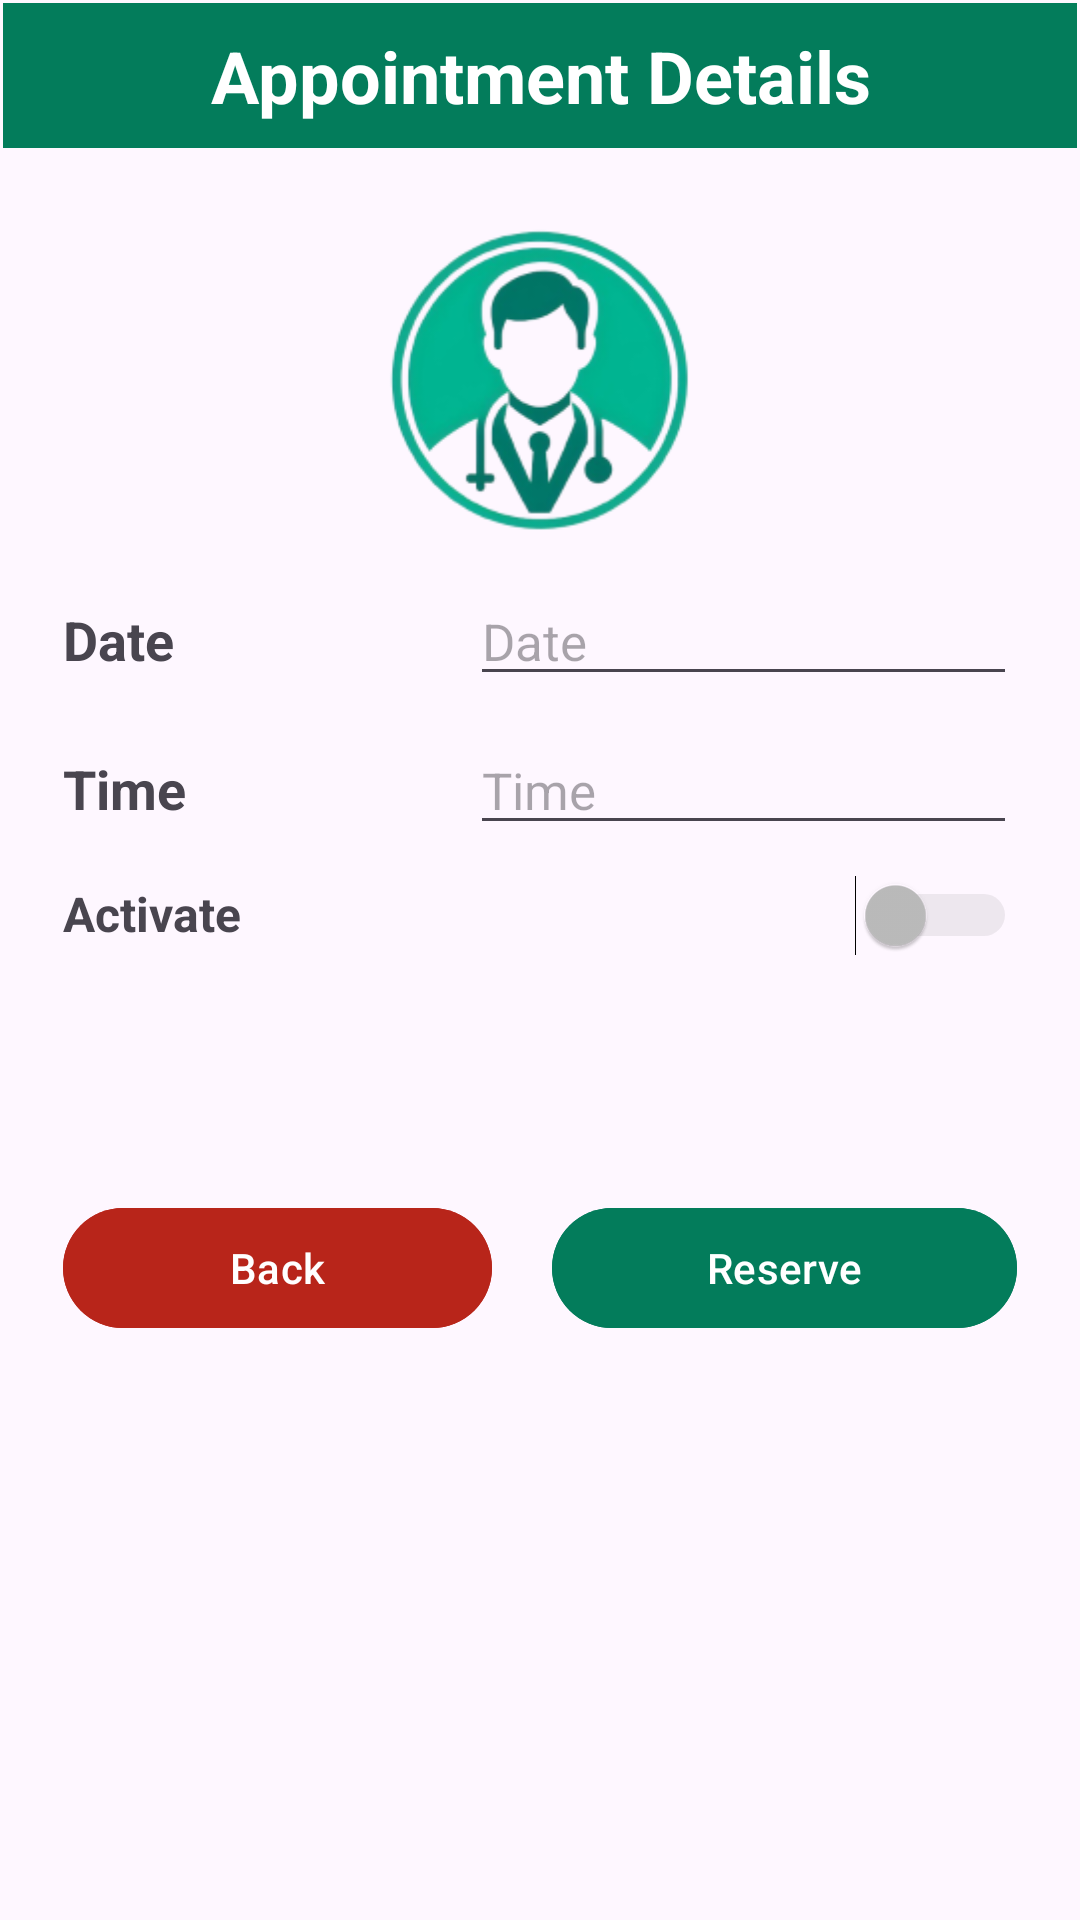

Named icons in this screenshot (1080×1920) and their bounding boxes, (x1, y1, x2, y2):
prof: (391, 231, 688, 530)
